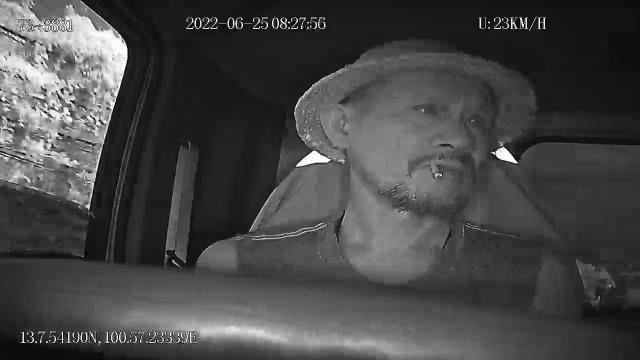SafeDriving: (406, 96, 442, 120)
Smoking: (428, 160, 444, 182)
